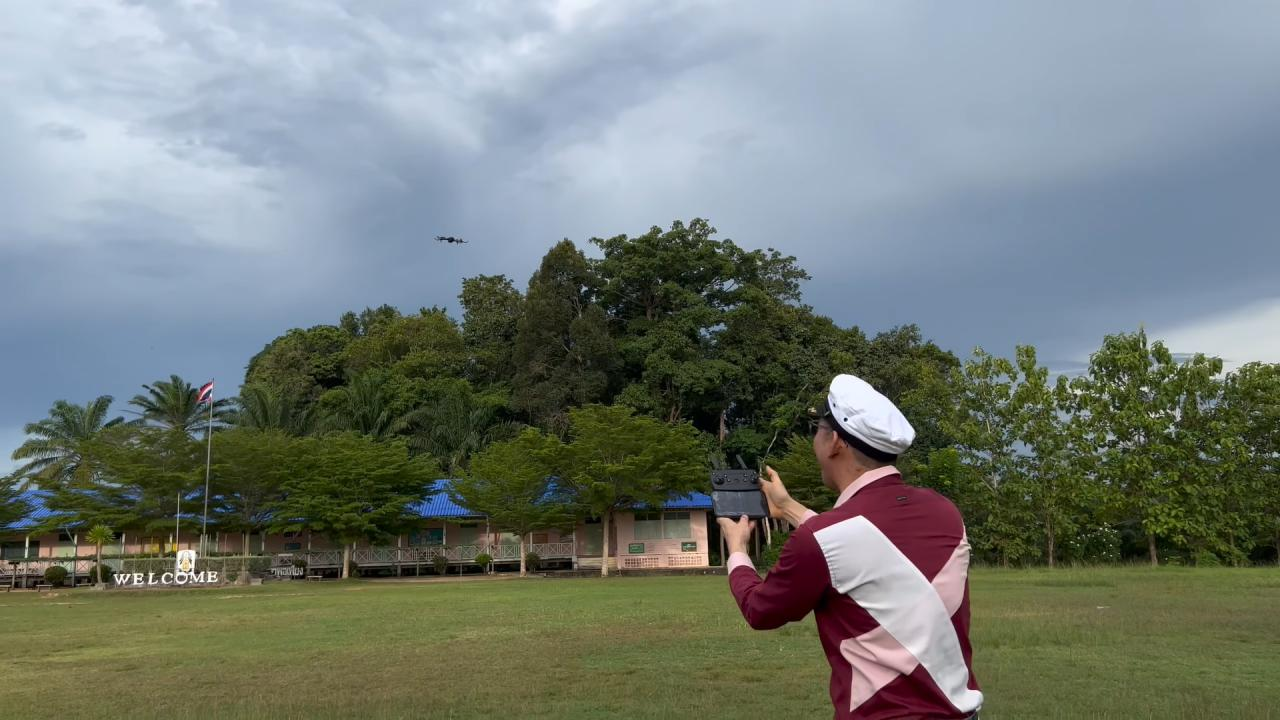Drone: (430, 223, 474, 258)
